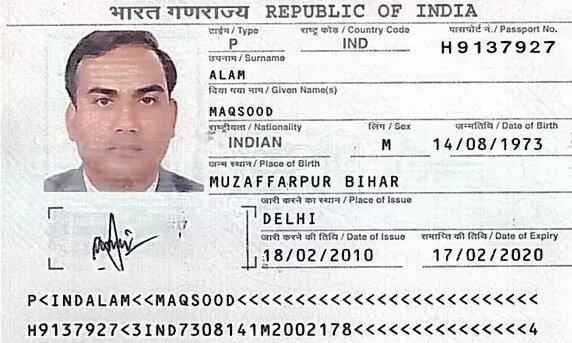DOB: (430, 134, 544, 158)
Surname: (197, 65, 302, 86)
country_code: (333, 33, 376, 56)
date_of_expiry: (423, 245, 550, 268)
date_of_issue: (258, 245, 377, 271)
details: (20, 273, 551, 338)
name: (204, 98, 402, 122)
nationality: (206, 133, 336, 156)
passport_no: (434, 31, 563, 66)
photo: (43, 30, 192, 191)
place_of_birth: (195, 172, 453, 196)
place_of_issue: (243, 209, 364, 232)
sex: (368, 134, 411, 156)
sign: (33, 207, 214, 275)
type: (209, 33, 257, 54)
